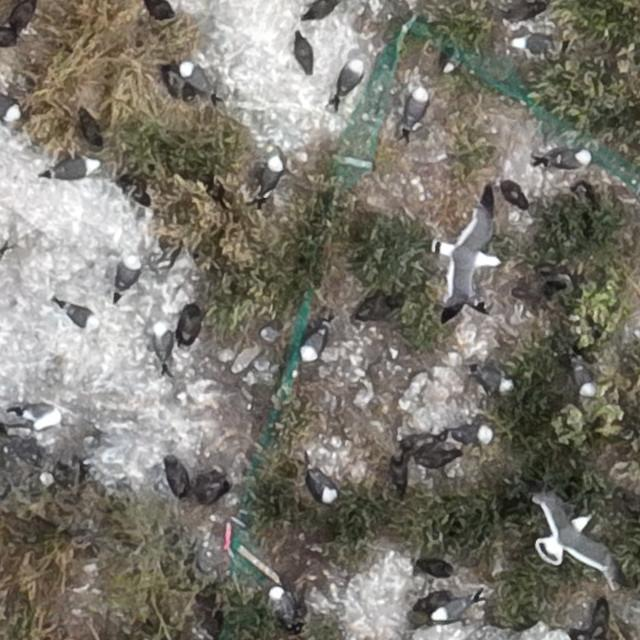F: (441, 210, 495, 302), (543, 503, 603, 568)
umineko: (115, 253, 143, 300), (60, 302, 98, 329), (571, 359, 596, 398), (475, 368, 514, 393), (152, 320, 172, 364), (51, 157, 94, 177), (181, 64, 208, 91), (458, 423, 494, 443), (339, 59, 362, 90), (408, 86, 428, 121), (434, 598, 469, 618), (302, 328, 324, 359), (554, 151, 590, 169), (312, 474, 336, 501), (262, 155, 280, 189), (30, 407, 60, 427), (270, 589, 289, 620), (513, 37, 549, 53), (2, 97, 21, 120)
